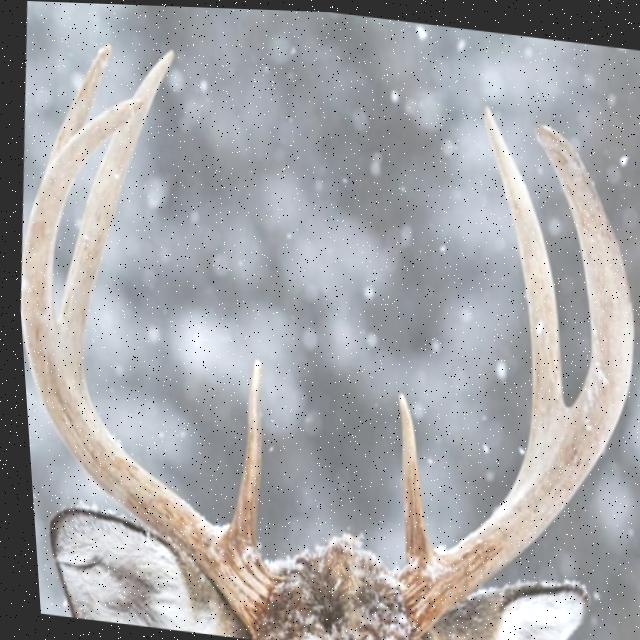L-F: (16, 96, 275, 637)
L-G1: (221, 354, 257, 542)
R-F: (389, 120, 629, 637)
R-G1: (391, 388, 425, 563)
R-G2: (480, 101, 558, 427)
